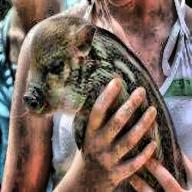boar: (3, 12, 192, 192)
